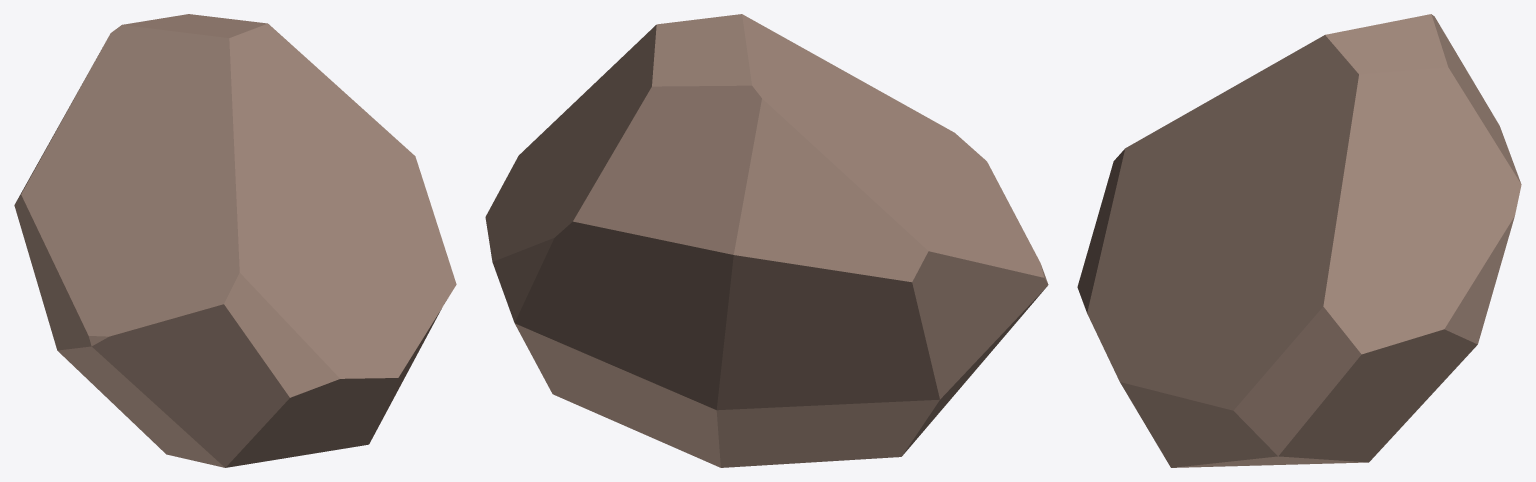
Rendered from rock_3.glb.
3 views of the same model, side by side, from view 1: azimuth 30°, elevation 25°; view 2: azimuth 150°, elevation 25°; view 3: azimuth 270°, elevation 25° (orthographic). The views are drawn at different scales.
Parts seen in each view (by area): view 1: Rock.002; view 2: Rock.002; view 3: Rock.002.
Boxes of the visible parts, x1,y1,x2,y2 form: Rock.002: (14, 14, 456, 467); Rock.002: (485, 14, 1048, 467); Rock.002: (1077, 14, 1521, 467).
Bounding box in the file's own units: 0.9091 × 0.8569 × 0.8349.
